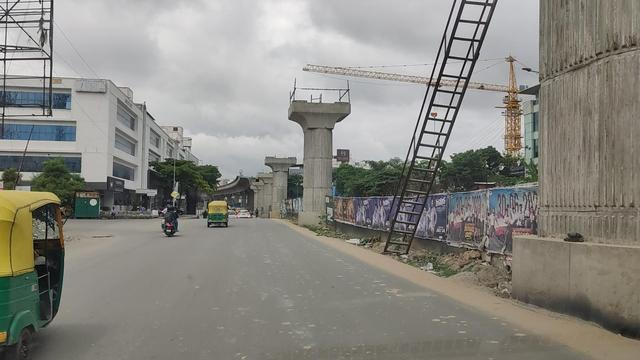LMV: (207, 200, 229, 226), (162, 202, 177, 238)
RoadDamages: (89, 231, 114, 241)
